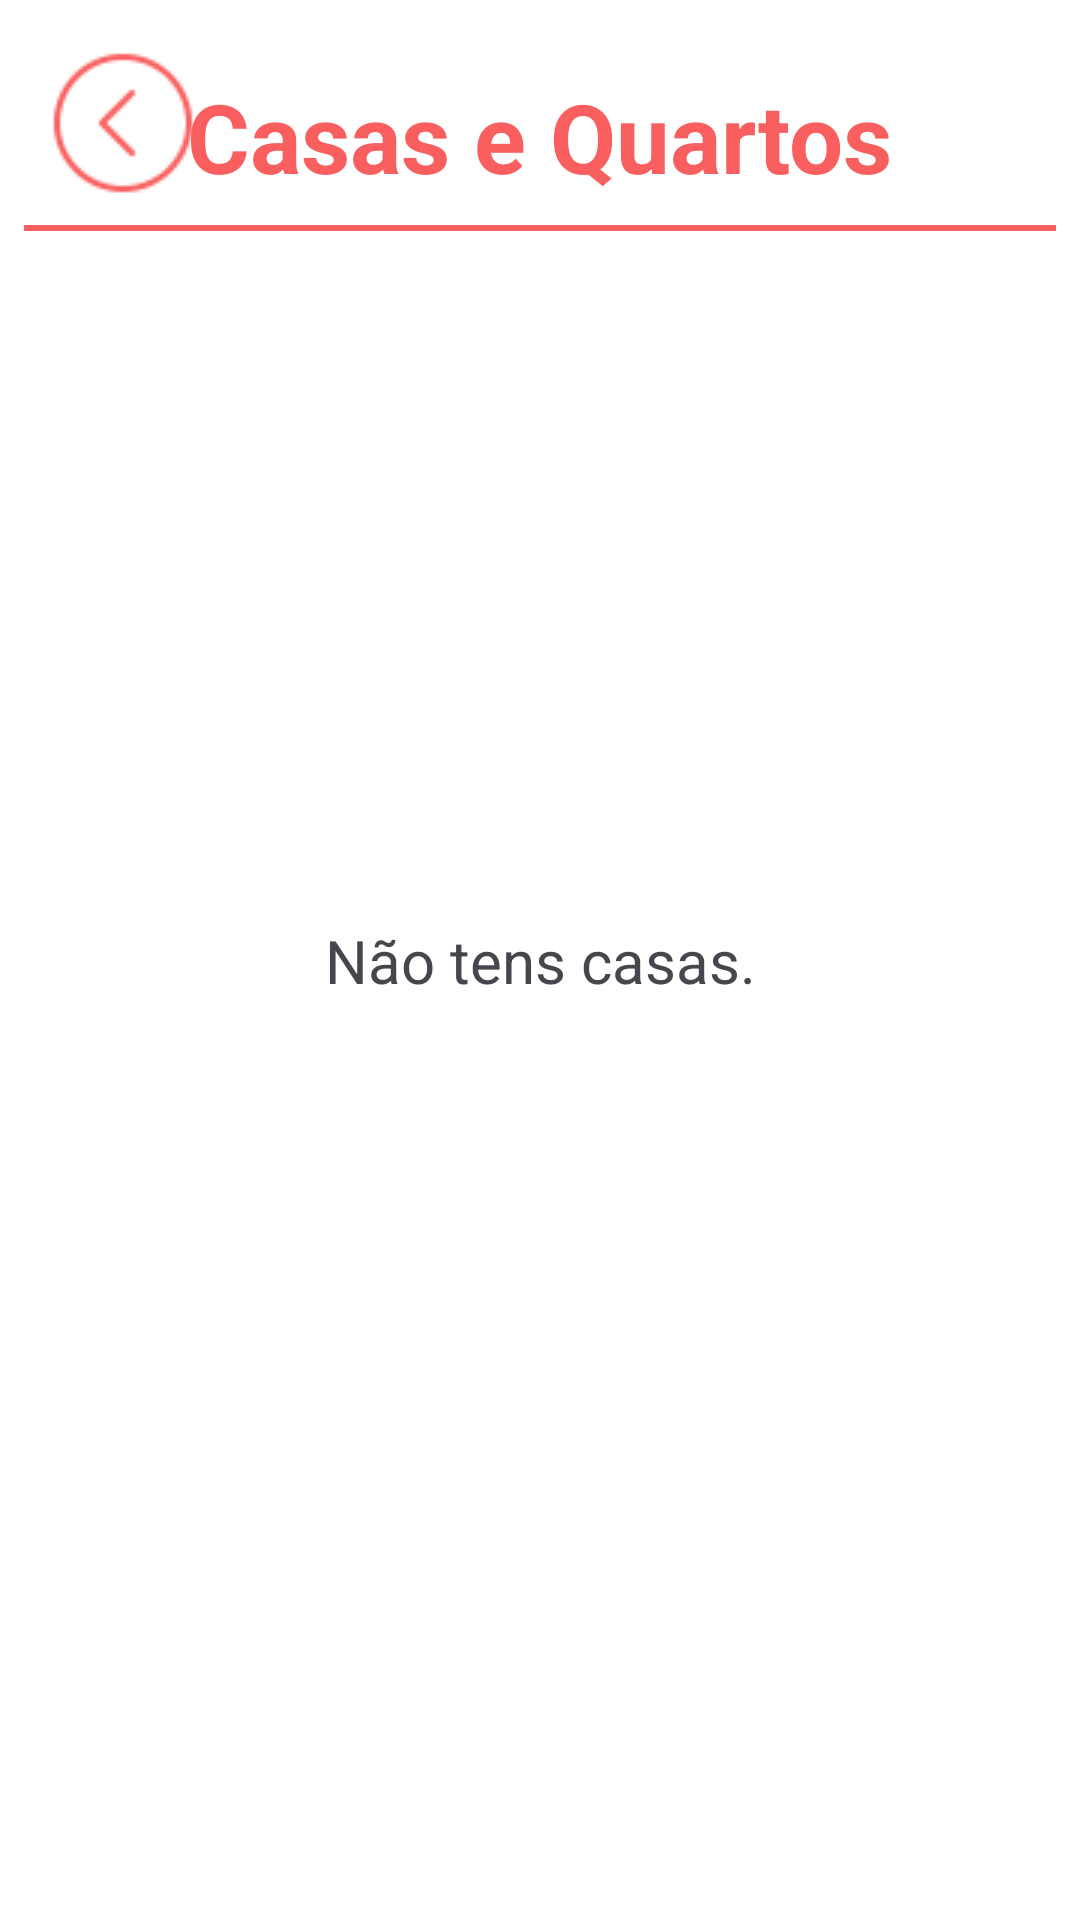

Locate icon controls on the screen. Image size 1080px x 1920px, boxes as (x1, y1, x2, y2).
back: (53, 53, 198, 193)
